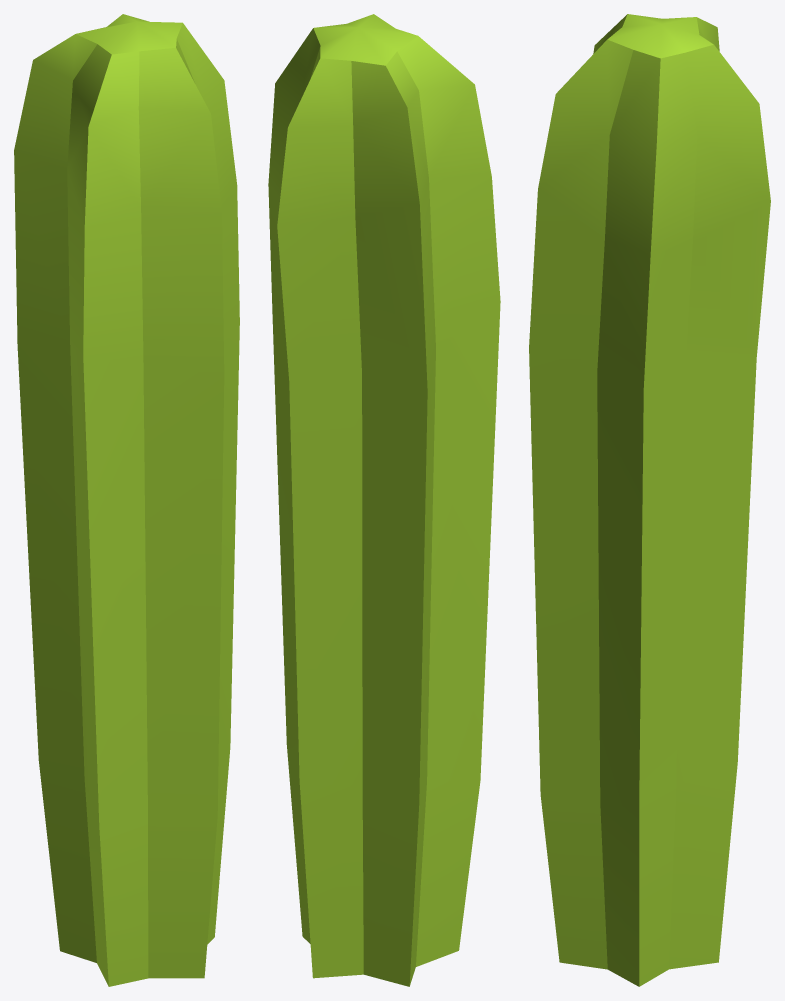
Rendered from cactus3.obj.
3 views of the same model, side by side, from view 1: azimuth 30°, elevation 25°; view 2: azimuth 150°, elevation 25°; view 3: azimuth 270°, elevation 25° (orthographic).
Parts seen in each view (by area): view 1: cactus3 cactus3; view 2: cactus3 cactus3; view 3: cactus3 cactus3.
Part boxes in pixels (<box>): cactus3 cactus3: <box>14,14,239,986</box>; cactus3 cactus3: <box>268,14,500,986</box>; cactus3 cactus3: <box>529,14,770,986</box>.
Size of the model in its own units: 0.3931 by 1.81 by 0.4267.
